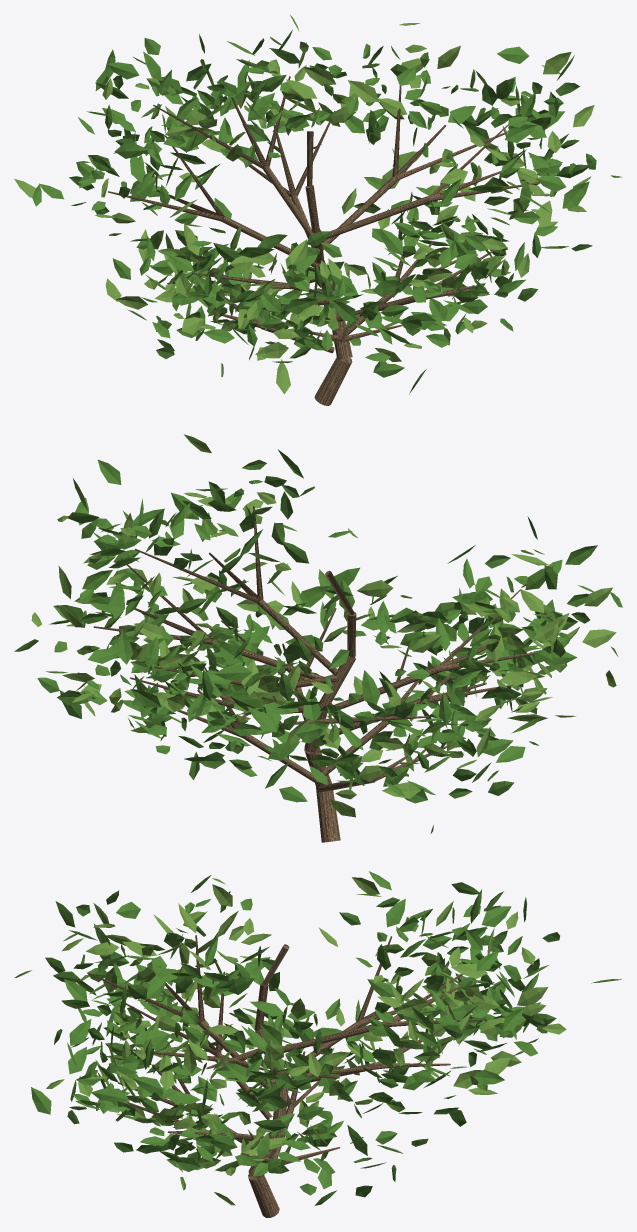
Rendered from bush.glb.
3 renders of one model, top to bottom at view 1: azimuth 30°, elevation 25°; view 2: azimuth 150°, elevation 25°; view 3: azimuth 270°, elevation 25°, orthographic. The views are drawn at different scales.
Parts seen in each view (by area): view 1: bush; view 2: bush; view 3: bush.
Part boxes in pixels (x1,y1,x2,y2): bush: [14, 15, 622, 405]; bush: [14, 434, 622, 842]; bush: [14, 871, 621, 1217].
Size of the model in its own units: 4.42 by 2.55 by 4.63.
Materials: 3 (1 with a texture image).
